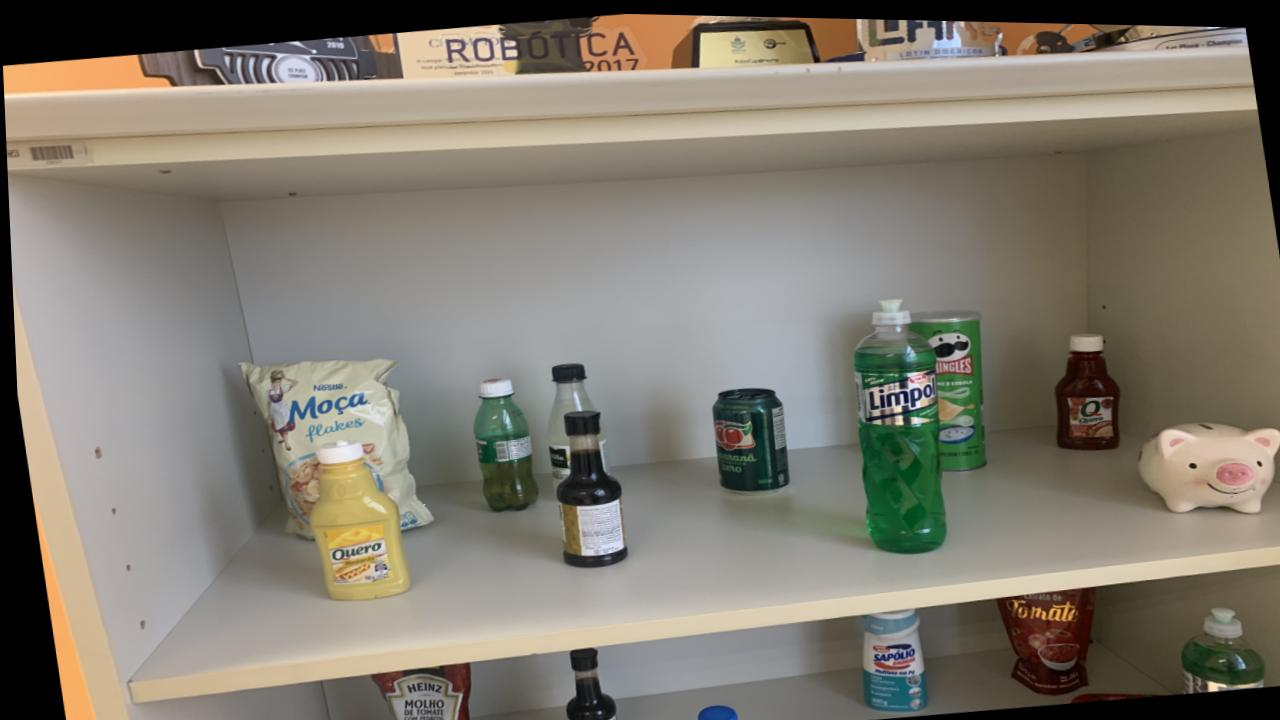Cleaner-Cleanup_Items: (855, 604, 921, 707)
Detergent-Cleanup_Items: (849, 295, 943, 548), (1175, 601, 1260, 688)
English_Sauce-Pantry_Items: (551, 407, 623, 565), (559, 645, 611, 720)
Flakes-Snacks: (238, 357, 427, 536)
Guarana-Drinks: (469, 375, 534, 508)
Guarana_Can-Drinks: (708, 384, 785, 492)
Ketchup-Pantry_Items: (1051, 327, 1117, 445)
Mustard-Pantry_Items: (304, 438, 406, 599)
Pig_Safe-Miscellaneous: (1133, 416, 1278, 507)
Pringles-Snacks: (906, 305, 983, 466)
Soda-Drinks: (543, 360, 592, 480), (592, 420, 605, 466)
Tomato_Sauce-Pantry_Items: (992, 583, 1090, 690), (364, 660, 466, 720)
Water_Bottle-Drinks: (690, 701, 734, 720)
